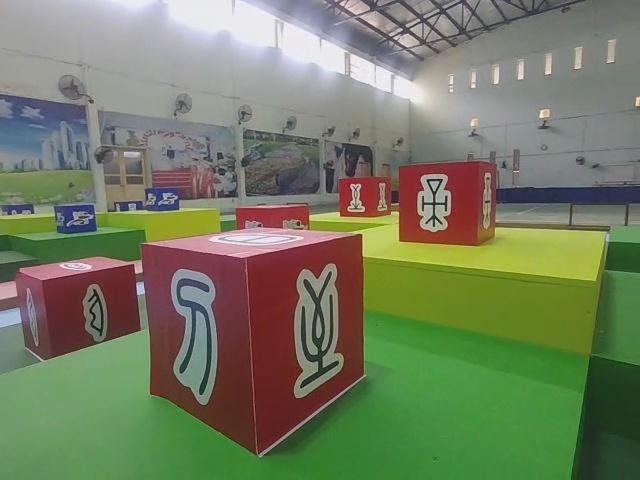R2 Fake: (138, 225, 369, 458)
R2 Real: (14, 253, 143, 365), (396, 158, 501, 249), (336, 173, 393, 219)
